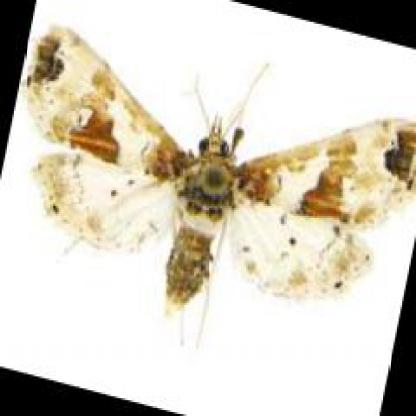leucinodes: (28, 27, 408, 321)
